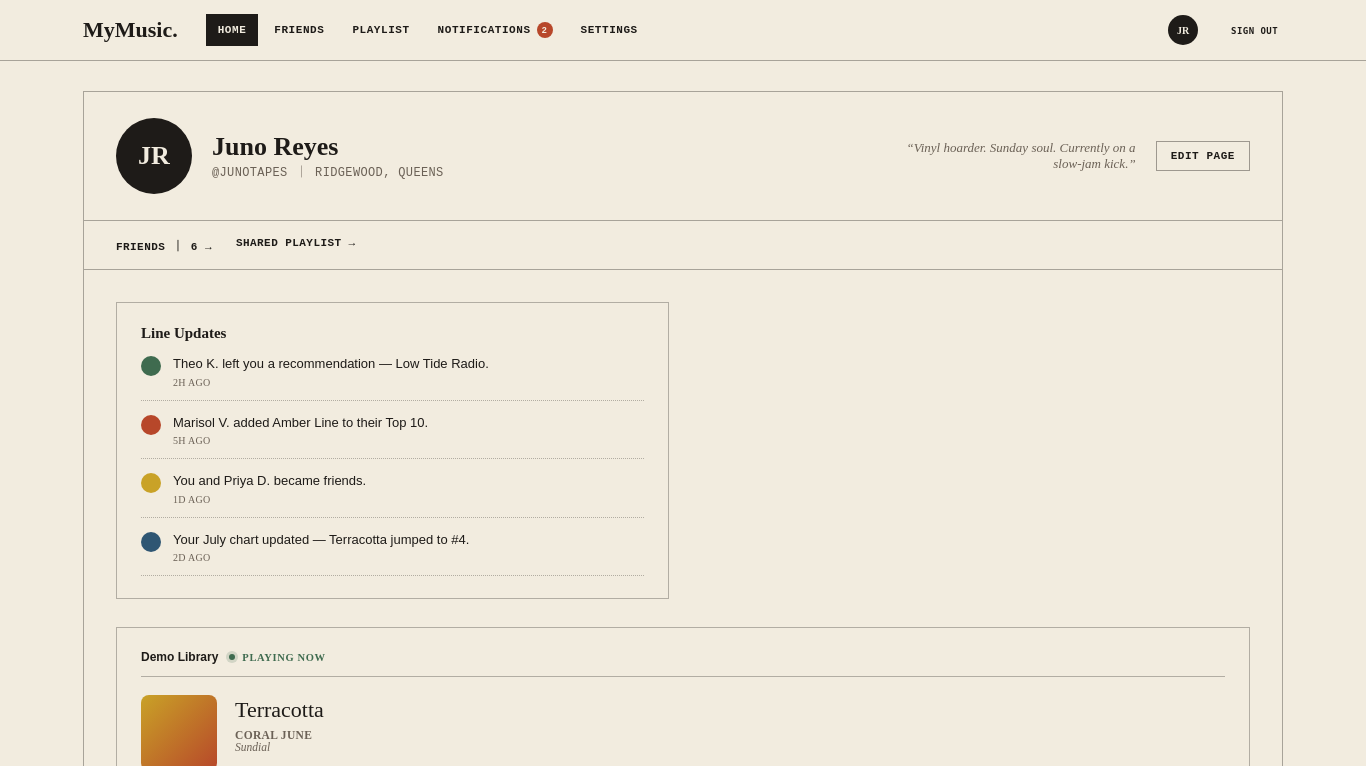
Test: this month's top 10 › refuses a track already picked
Click the button "EDIT PAGE" at (1203, 156), box 1156,141 -> 1250,171
(page scrolled)
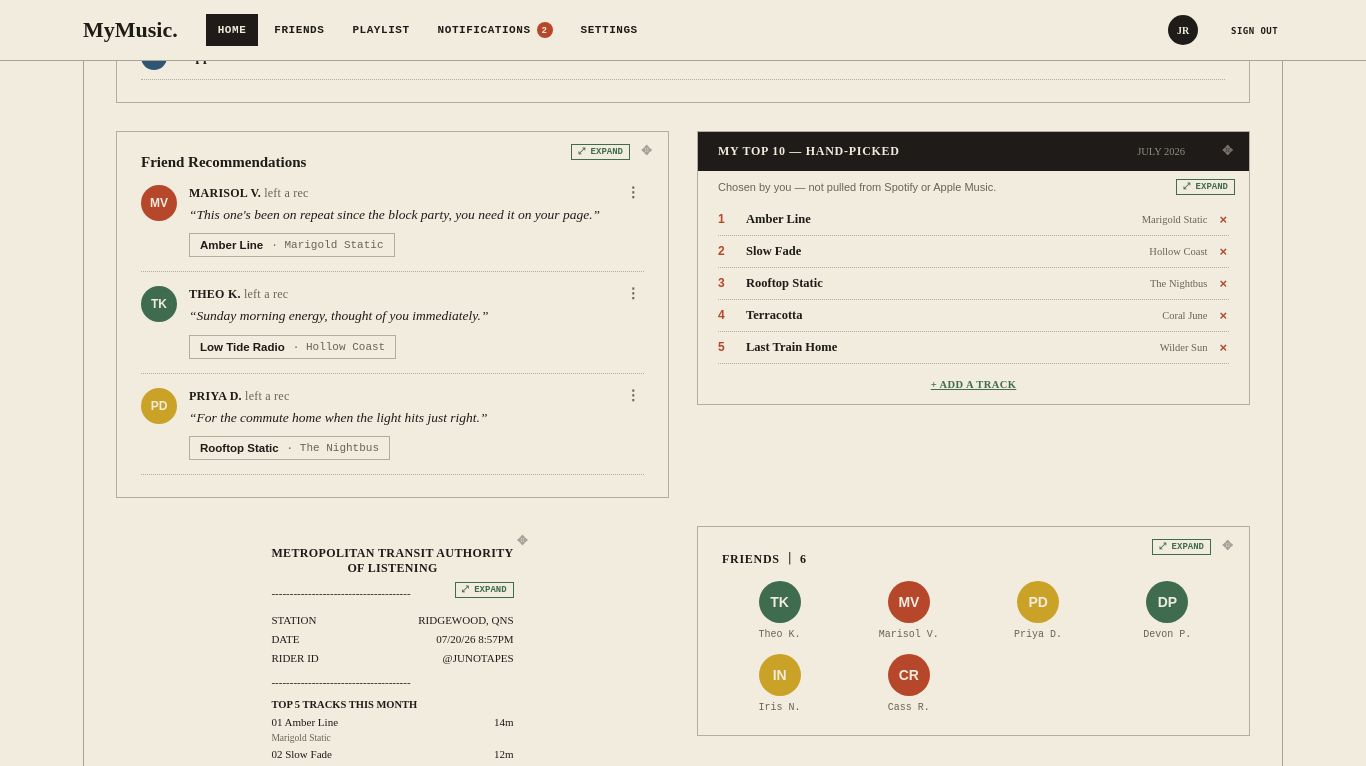
Click the button "+ ADD A TRACK" at (974, 384), box 931,378 -> 1016,390
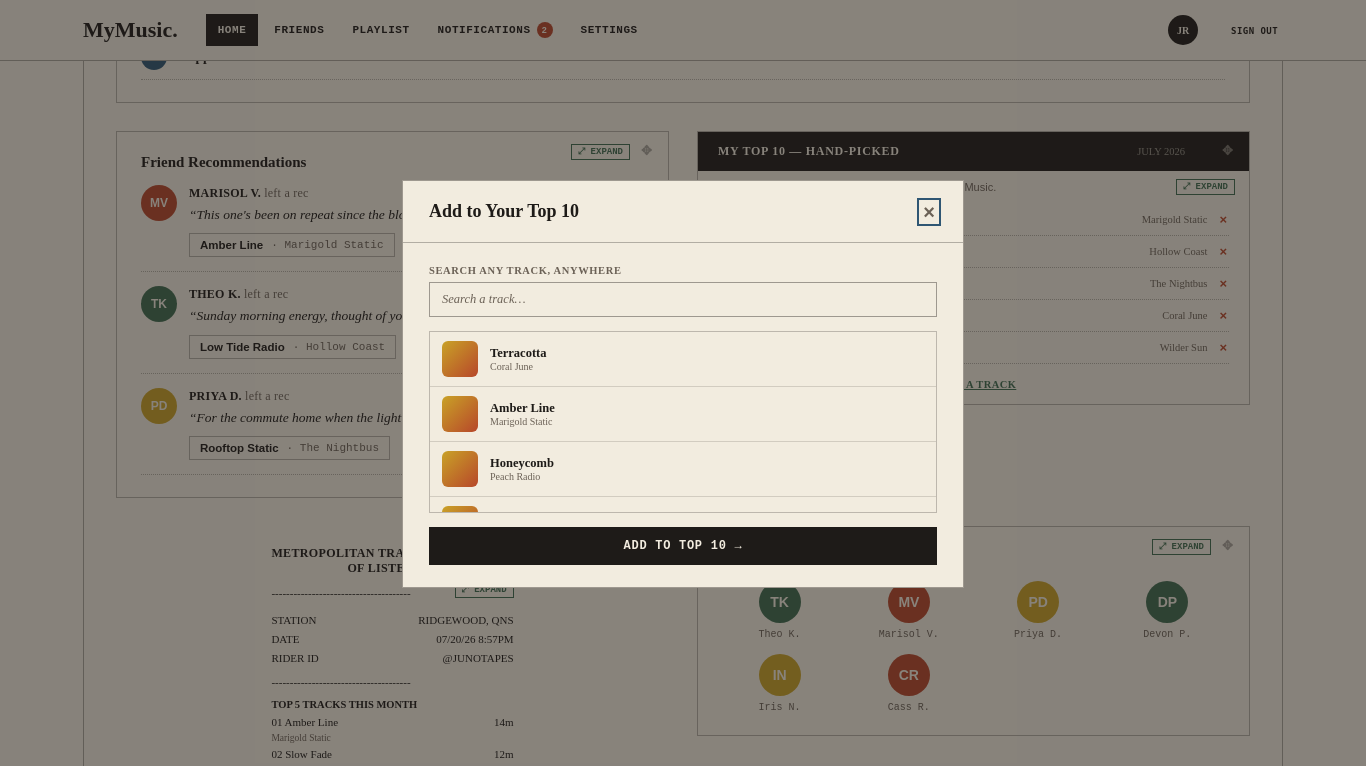
Click the button "Amber Line Marigold Static" at (460, 414), box 430,387 -> 936,442
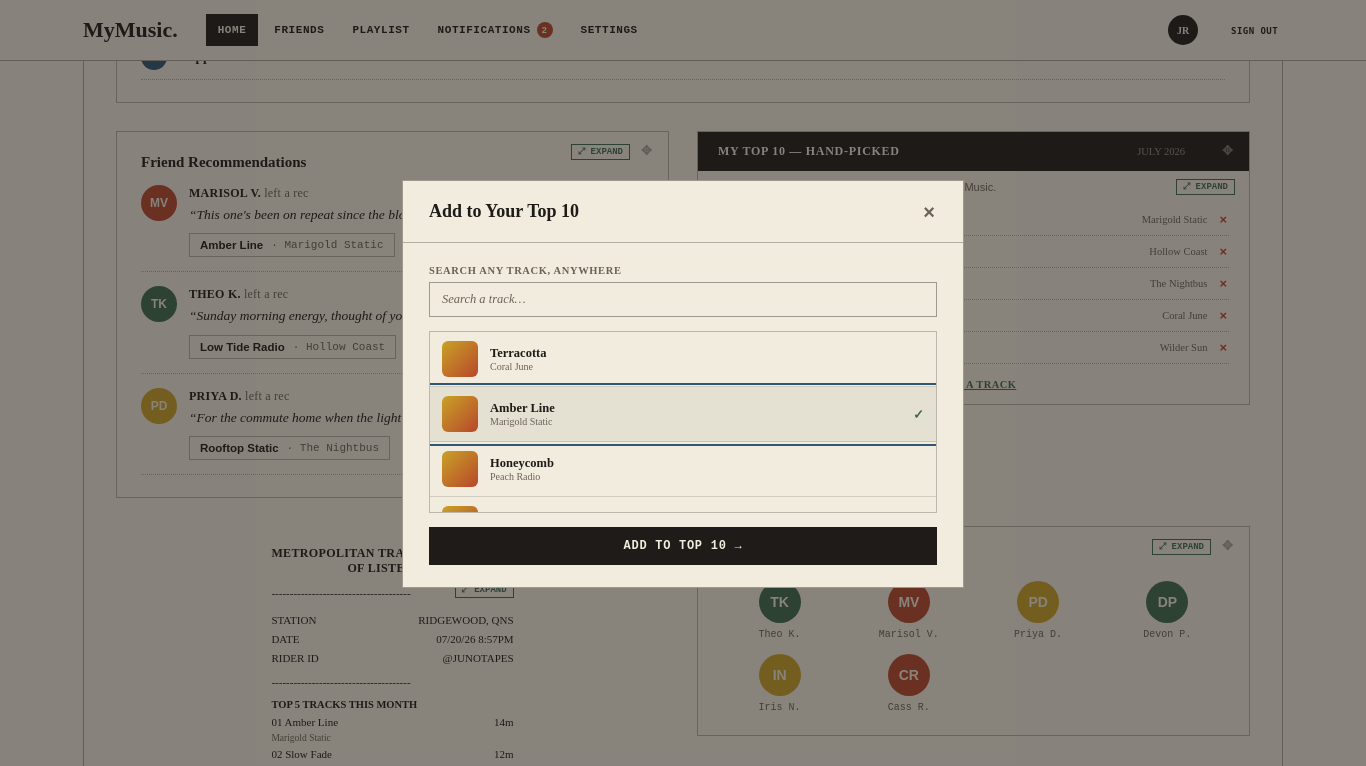
Click the button "ADD TO TOP 10 →" at (683, 546), box 429,527 -> 937,565
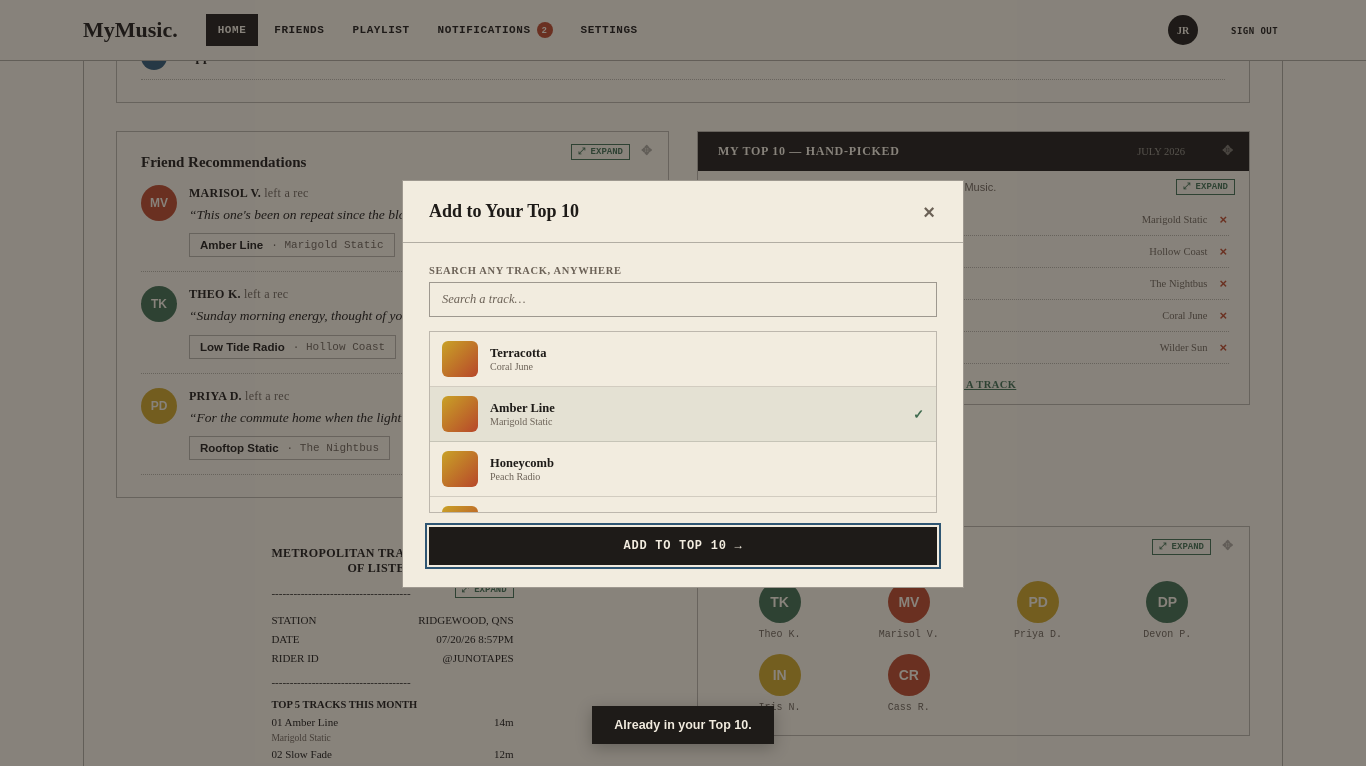
Result: the text "Already in your Top 10." is shown at 592,706 -> 774,744
